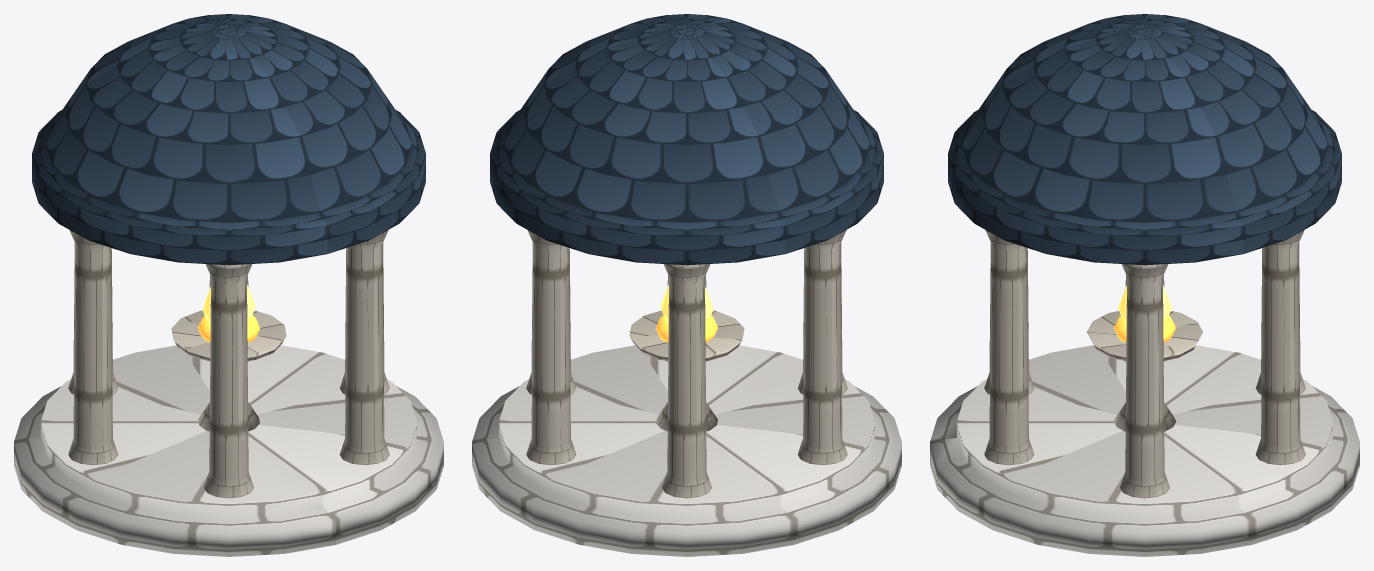
The model's file is building_shrine.glb.
The picture shows the model from 3 angles, left to right: view 1: azimuth 30°, elevation 25°; view 2: azimuth 150°, elevation 25°; view 3: azimuth 270°, elevation 25°; orthographic projection.
Parts seen in each view (by area): view 1: building_shrine_stone_blocks, building_shrine; view 2: building_shrine_stone_blocks, building_shrine; view 3: building_shrine_stone_blocks, building_shrine.
Boxes of the visible parts, x1,y1,x2,y2 form: building_shrine_stone_blocks: [14, 230, 443, 556]; building_shrine: [32, 14, 425, 342]; building_shrine_stone_blocks: [472, 230, 901, 556]; building_shrine: [490, 14, 883, 342]; building_shrine_stone_blocks: [930, 230, 1359, 556]; building_shrine: [948, 14, 1341, 342].
Size of the model in its own units: 4.8 by 5.35 by 4.8.
Materials: 4 (2 with a texture image).
